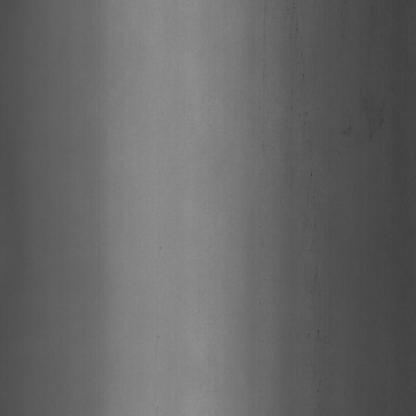inclusion: (302, 193, 327, 397), (284, 8, 313, 180), (335, 80, 391, 165)
